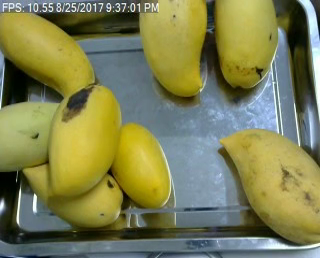Mango: (216, 122, 319, 246), (46, 78, 129, 203), (0, 4, 102, 103), (136, 0, 213, 99), (207, 2, 284, 94), (22, 161, 128, 226), (107, 119, 176, 213), (0, 90, 75, 176)
